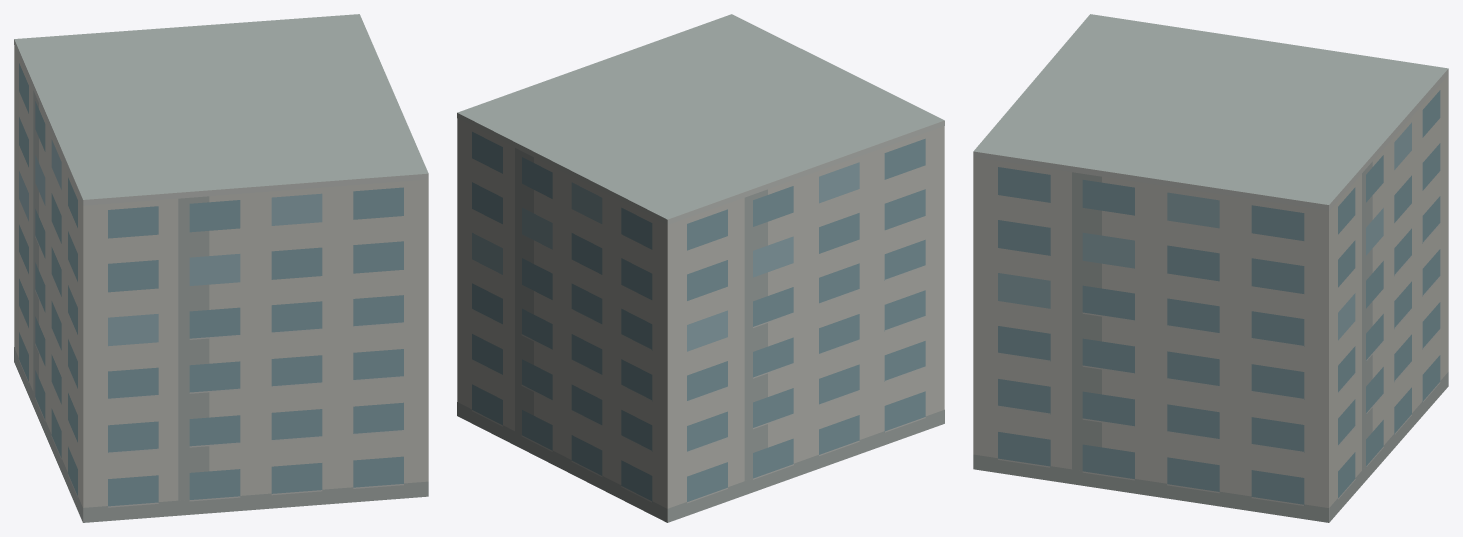
Rendered from survey-upis-32884114.glb.
3 renders of one model, left to right at view 1: azimuth 30°, elevation 25°; view 2: azimuth 150°, elevation 25°; view 3: azimuth 270°, elevation 25°, orthographic. The views are drawn at different scales.
Visible parts, largest first — view 1: survey-upis-32884114.tmp; view 2: survey-upis-32884114.tmp; view 3: survey-upis-32884114.tmp.
Part boxes in pixels (x1=…): survey-upis-32884114.tmp: x1=14, y1=14, x2=428, y2=522; survey-upis-32884114.tmp: x1=457, y1=14, x2=944, y2=522; survey-upis-32884114.tmp: x1=973, y1=14, x2=1448, y2=522.
Size of the model in its own units: 17.03 by 13.2 by 17.9.
